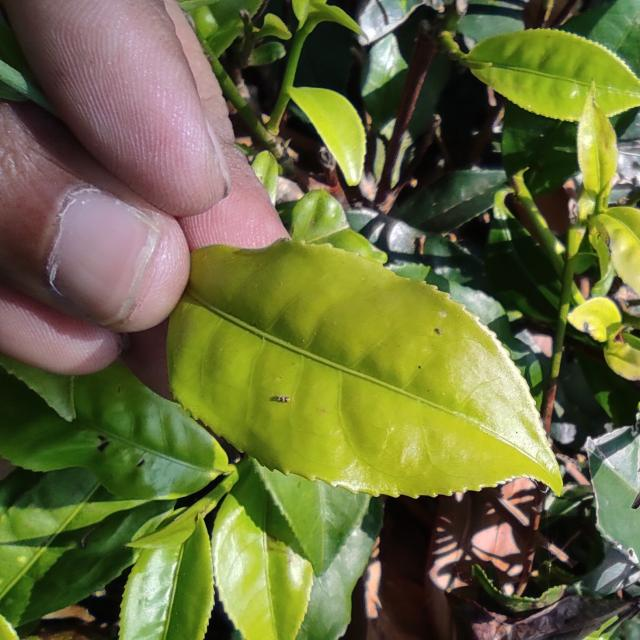Category C(4-7 days): (138, 202, 577, 507)
